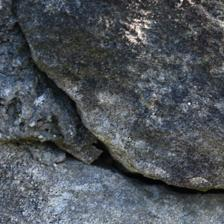Crack: (28, 106, 168, 164), (16, 60, 92, 162)
